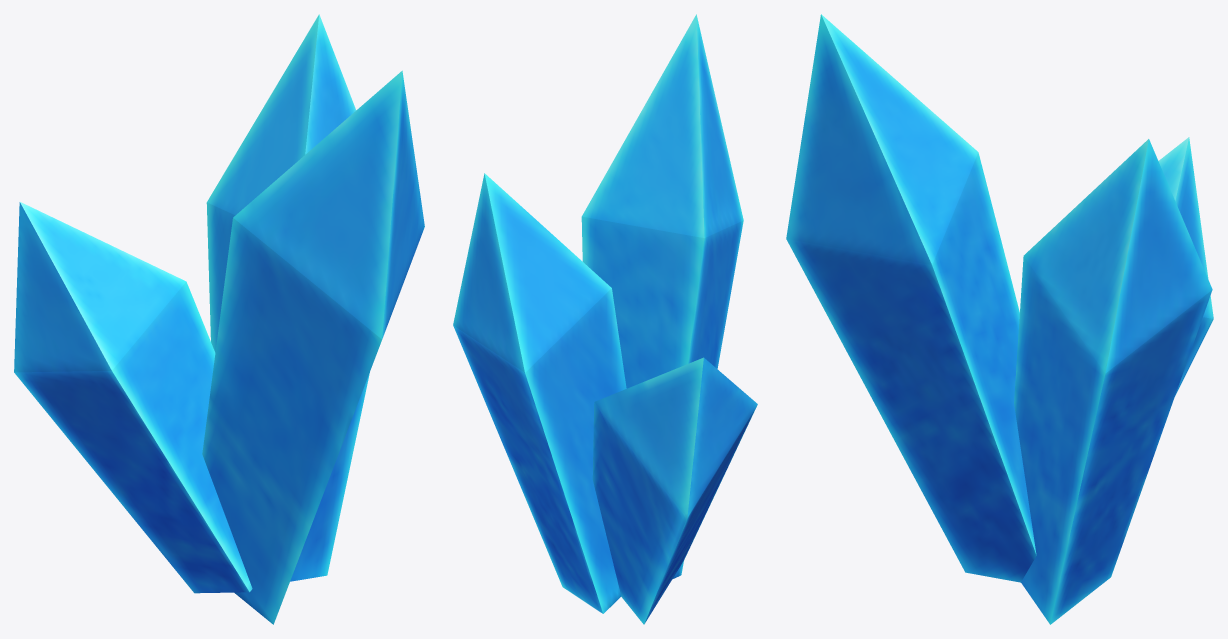
3 views of the same model, side by side, from view 1: azimuth 30°, elevation 25°; view 2: azimuth 150°, elevation 25°; view 3: azimuth 270°, elevation 25° (orthographic). The views are drawn at different scales.
Parts seen in each view (by area): view 1: objpolySurface1; view 2: objpolySurface1; view 3: objpolySurface1.
Part boxes in pixels (x1=…): objpolySurface1: x1=14, y1=14, x2=424, y2=624; objpolySurface1: x1=453, y1=14, x2=757, y2=624; objpolySurface1: x1=786, y1=14, x2=1213, y2=624.
Bounding box in the file's own units: 234 × 399 × 260.
Materials: 1 (1 with a texture image).
